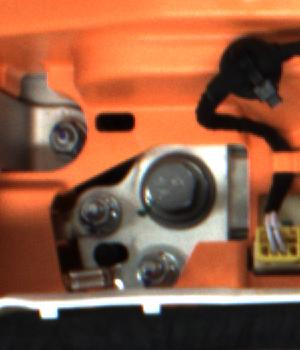nut_b: (134, 146, 223, 235)
screw_s: (133, 250, 179, 288), (40, 118, 82, 159), (75, 193, 117, 234)
